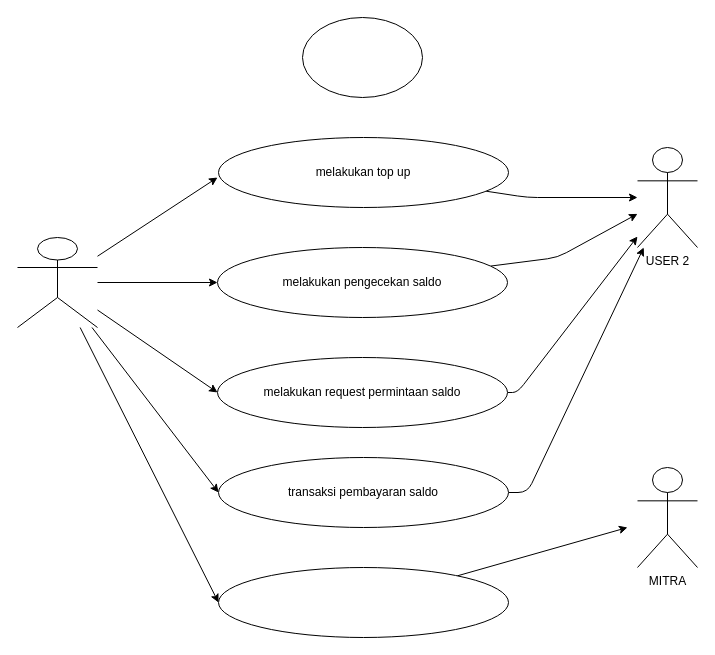
Some shapes in this 715 by 655 pixel diagram are drawn without their labels. The shapes that lost their labels are listed below. From the top down, each one's centre as x and y in pixels, then its label:
At (362,57): "USE CASE".
At (57,282): "USER 1".
At (363,602): "melakukan pembayaran pada tenan".
